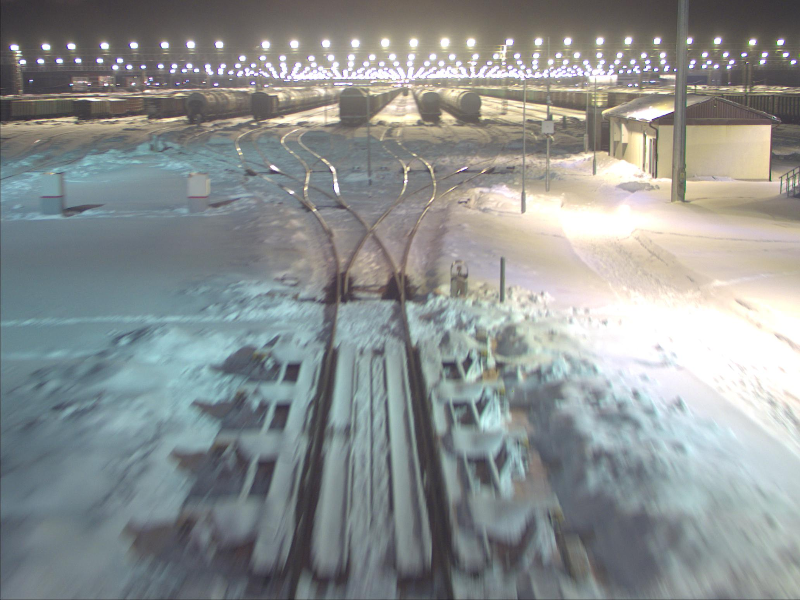left: (337, 267, 407, 301)
